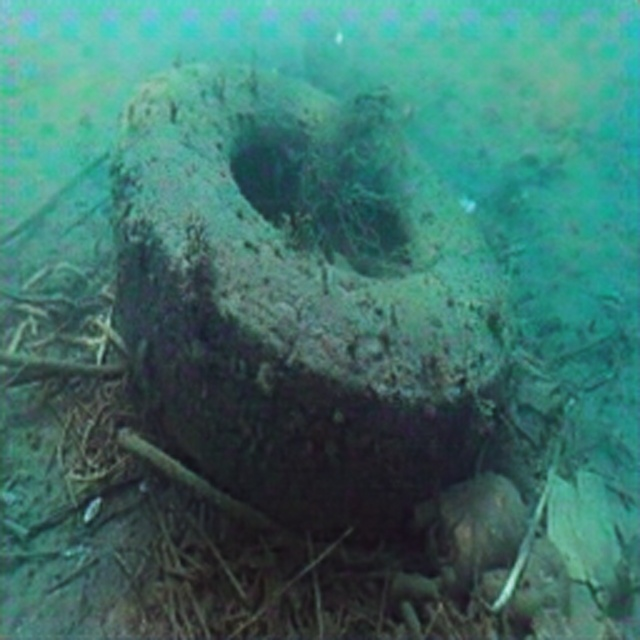mine: (110, 58, 513, 536)
